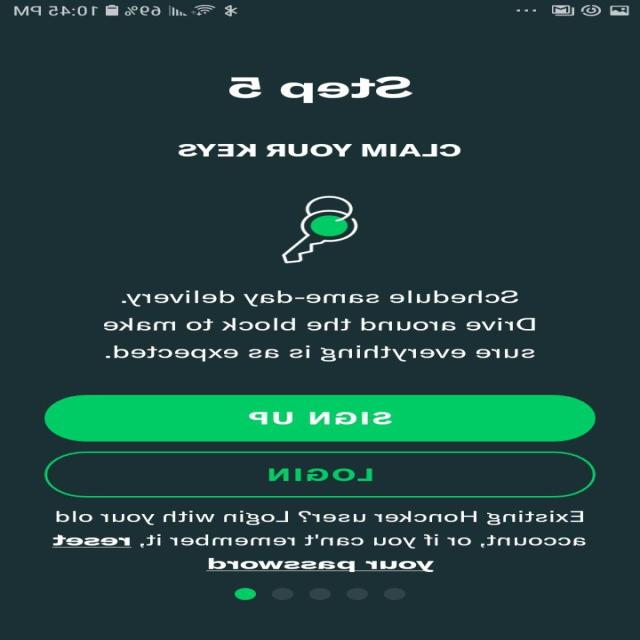Image: (281, 195, 359, 264)
Text: (52, 509, 588, 572), (104, 289, 537, 362), (230, 76, 414, 103), (178, 143, 462, 157)
TextButton: (45, 394, 598, 442), (44, 450, 596, 498)
